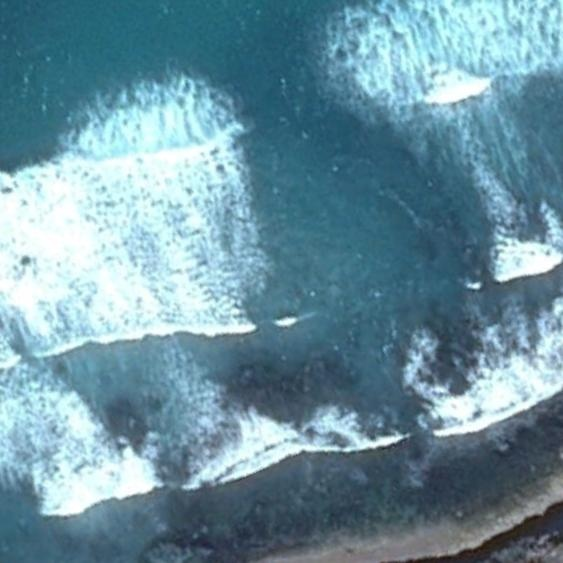rip_current: (184, 59, 481, 405)
